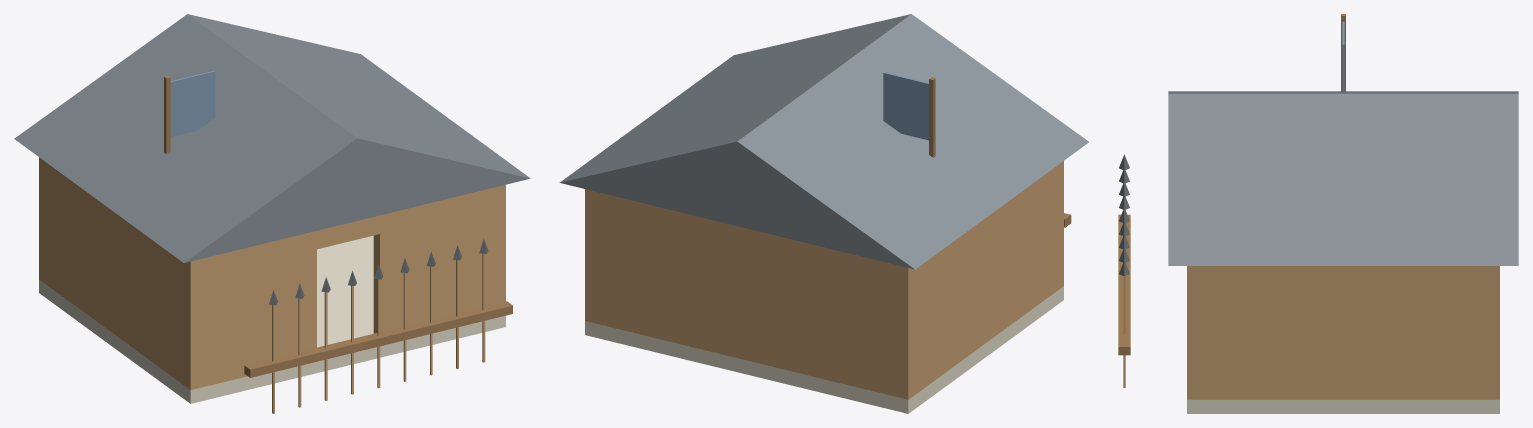
The model's file is militia-barracks.glb.
3 views of the same model, side by side, from view 1: azimuth 30°, elevation 25°; view 2: azimuth 150°, elevation 25°; view 3: azimuth 270°, elevation 25° (orthographic). The views are drawn at different scales.
Parts seen in each view (by area): view 1: militia-barracks; view 2: militia-barracks; view 3: militia-barracks.
Boxes of the visible parts, box(x1,y1,x2,y2) form: militia-barracks: box(14, 14, 530, 413); militia-barracks: box(559, 14, 1088, 413); militia-barracks: box(1118, 14, 1518, 413).
Size of the model in its own units: 6.6 by 4.7 by 6.4.
